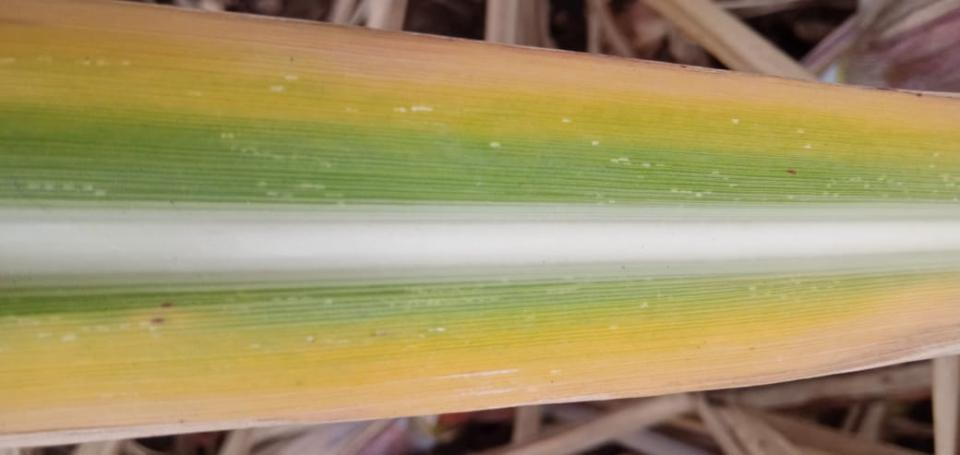Rust: (150, 318, 167, 327), (161, 300, 175, 309), (786, 168, 798, 176)
Yellow: (0, 275, 959, 434), (0, 19, 959, 163)
